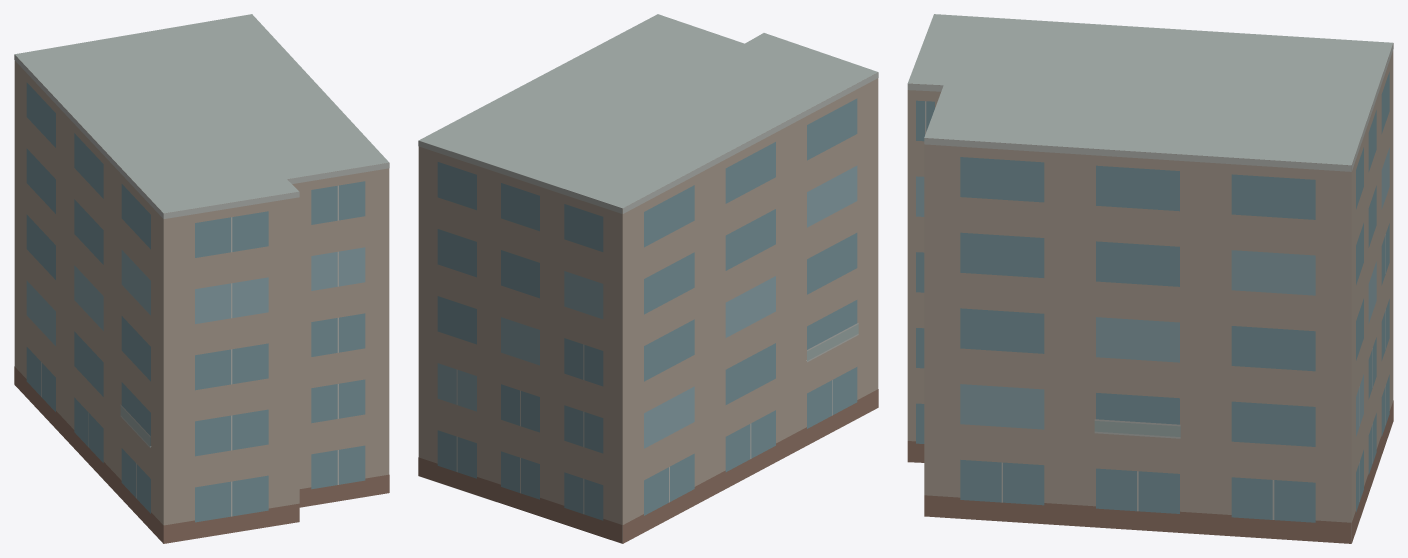
The model's file is survey-upis-32940467.glb.
3 renders of one model, left to right at view 1: azimuth 30°, elevation 25°; view 2: azimuth 150°, elevation 25°; view 3: azimuth 270°, elevation 25°, orthographic. The views are drawn at different scales.
Visible parts, largest first — view 1: survey-upis-32940467.tmp; view 2: survey-upis-32940467.tmp; view 3: survey-upis-32940467.tmp.
Part boxes in pixels (left/top/right/bottom): survey-upis-32940467.tmp: left=14, top=14, right=389, bottom=543; survey-upis-32940467.tmp: left=418, top=14, right=878, bottom=543; survey-upis-32940467.tmp: left=907, top=14, right=1393, bottom=543.
Size of the model in its own units: 12.1 by 14.1 by 16.41.
